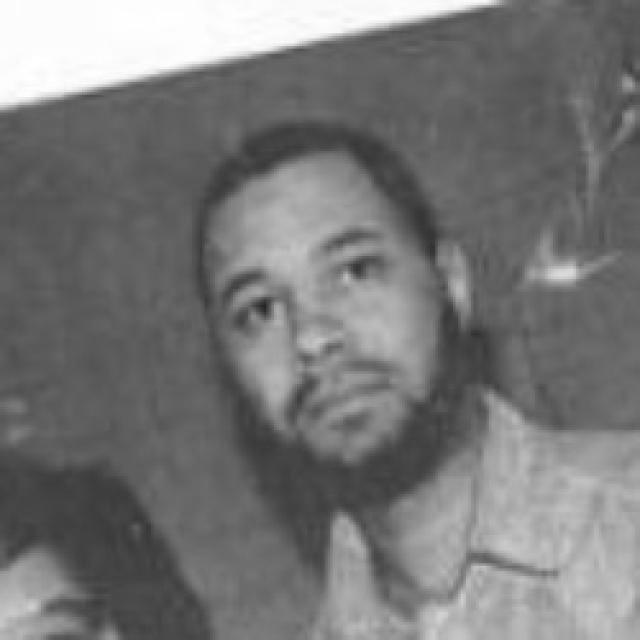real: (204, 160, 486, 472), (214, 245, 424, 335)
